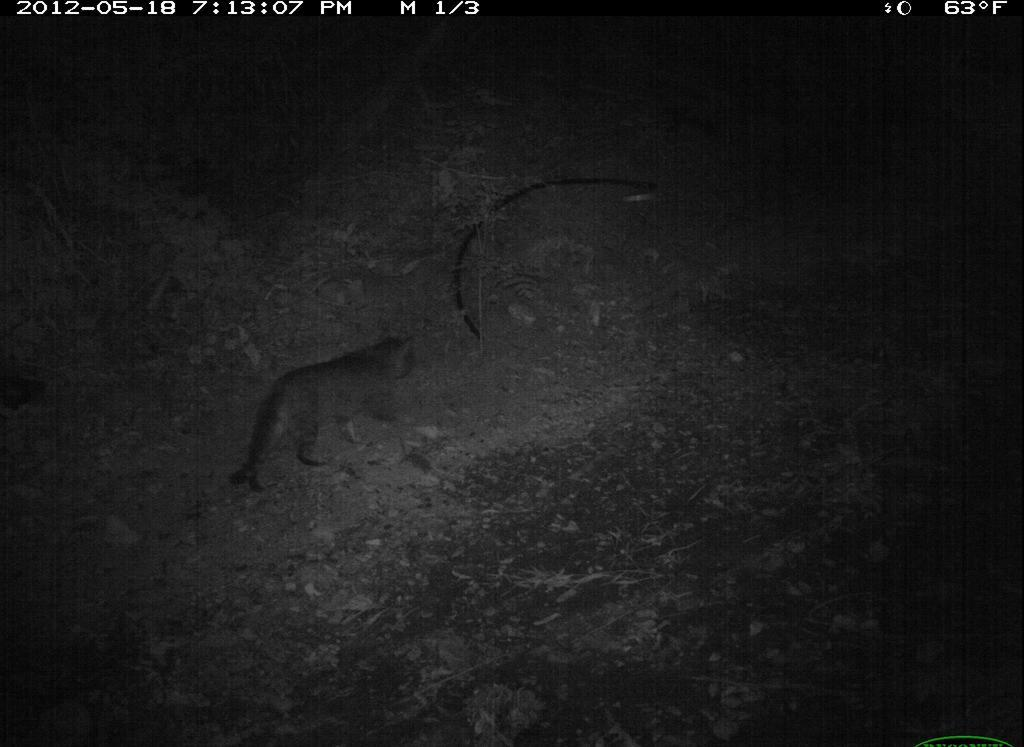cat: (218, 326, 436, 482)
